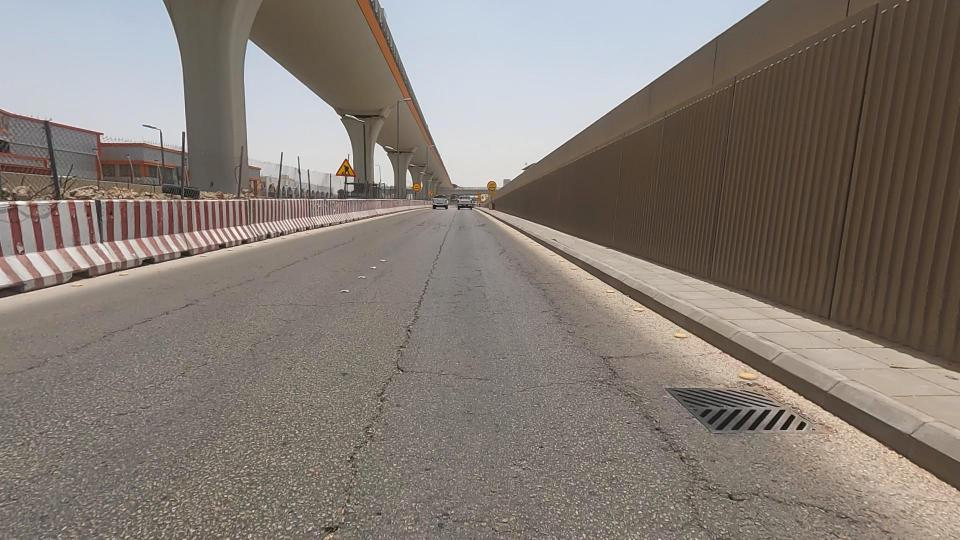CONSTRUCTION_ROAD: (0, 100, 292, 319), (157, 125, 378, 277), (320, 161, 443, 238)
